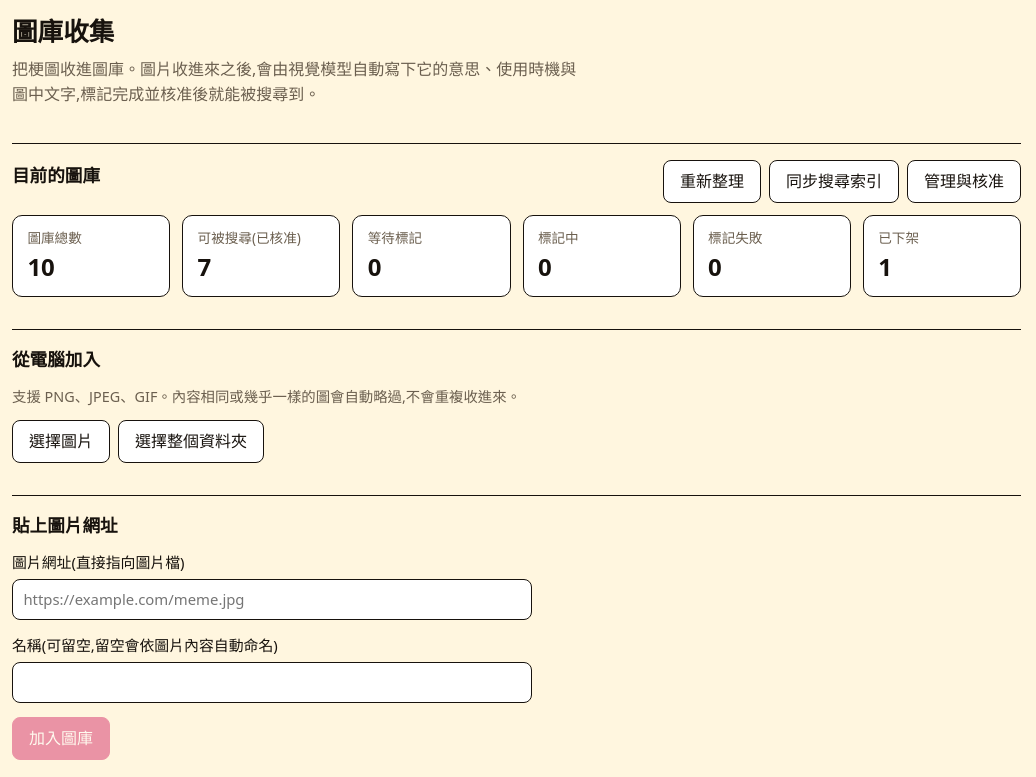
Test: CollectionPage › syncs the search index and says what it did, with failures
expect the text "圖庫總數" is shown: met, box [27,228,82,247]
Step 1. Click the button "同步搜尋索引" → [834, 181], box [769,160,899,203]
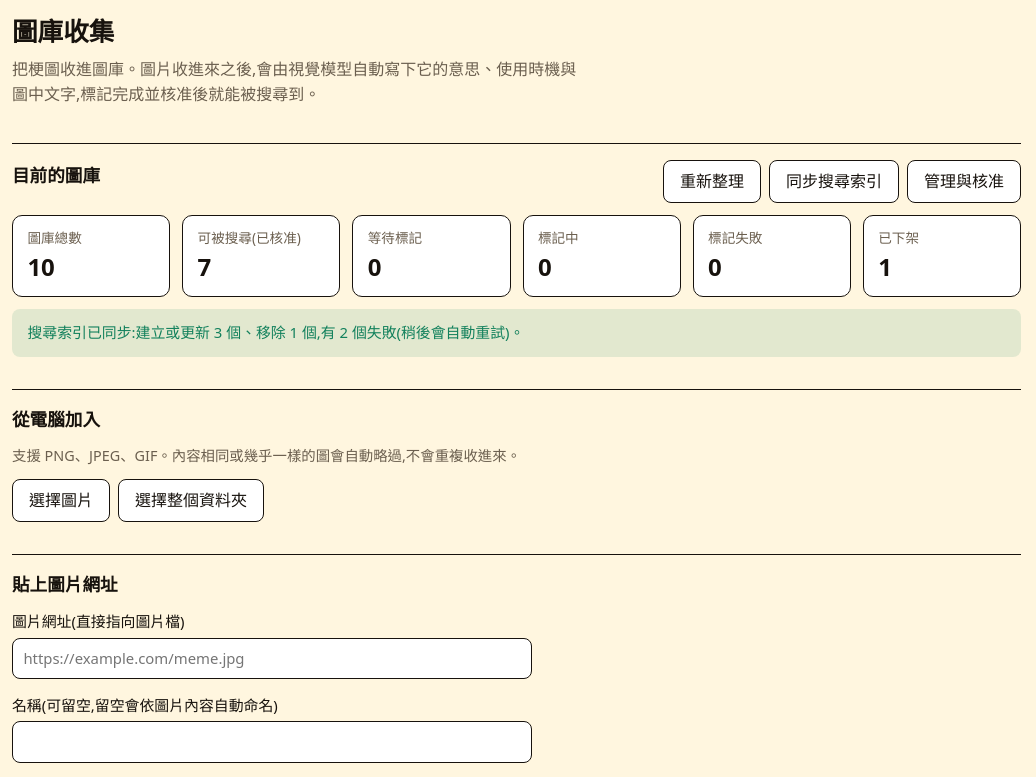
expect the text "搜尋索引已同步:建立或更新 3 個、移除 1 個,有 2 個失敗(稍後會自動重試)。" is shown: met, box [12,309,1021,357]
